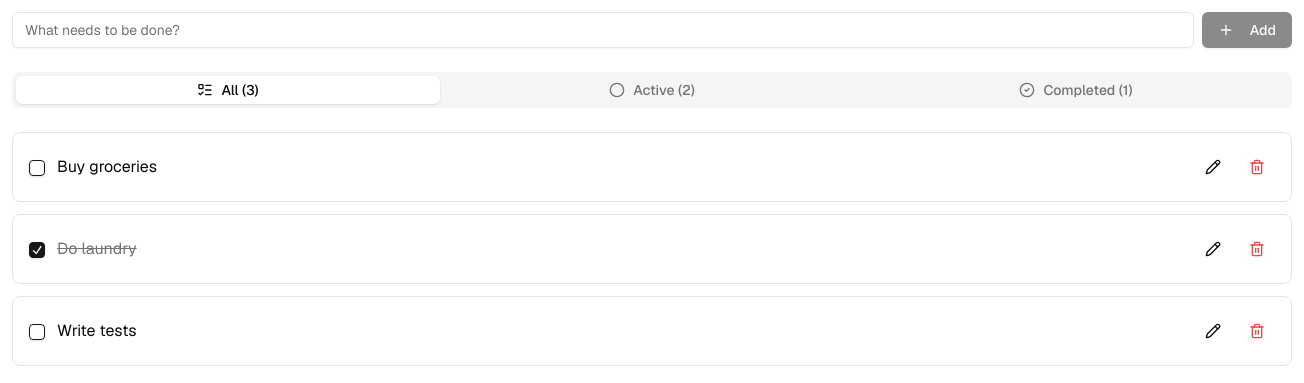
it: TodoList › should switch between filter tabs correctly
expect the text "Buy groceries" is shown: met, box [57,156,157,177]
expect the text "Do laundry" is shown: met, box [57,238,137,259]
// Switch to Active
Click the tab "Active (2)" at (652, 90), box [440,76,864,104]
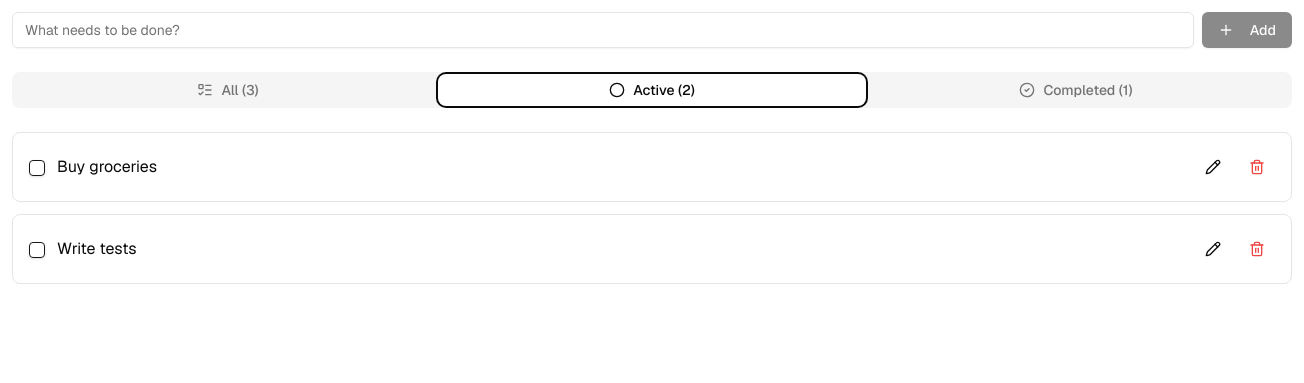
expect the text "Buy groceries" is shown: met, box [57,156,157,177]
expect the text "Do laundry" is gone: met
Click the tab "Completed (1)" at (1076, 90), box [864,76,1288,104]
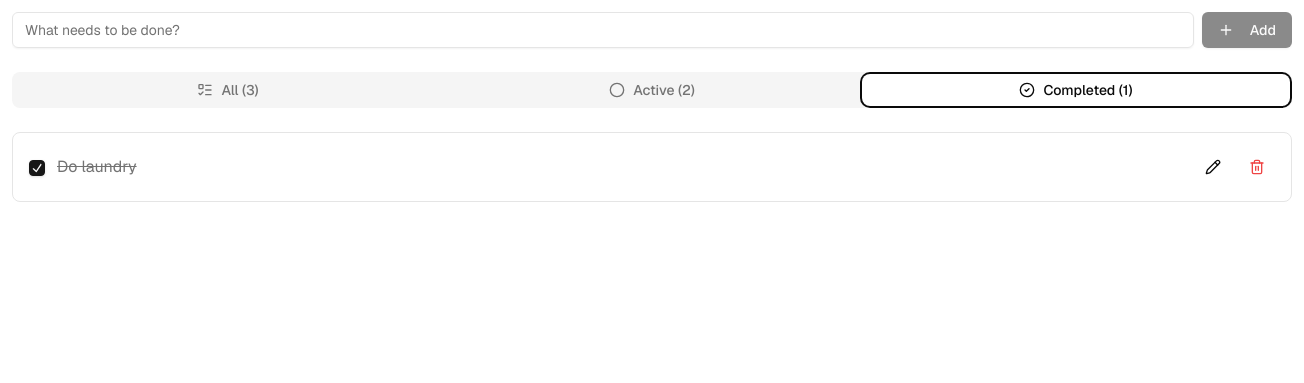
expect the text "Do laundry" is shown: met, box [57,156,137,177]
expect the text "Buy groceries" is gone: met
expect the text "Write tests" is gone: met
// Switch back to All
Click the tab "All (3)" at (228, 90), box [16,76,440,104]
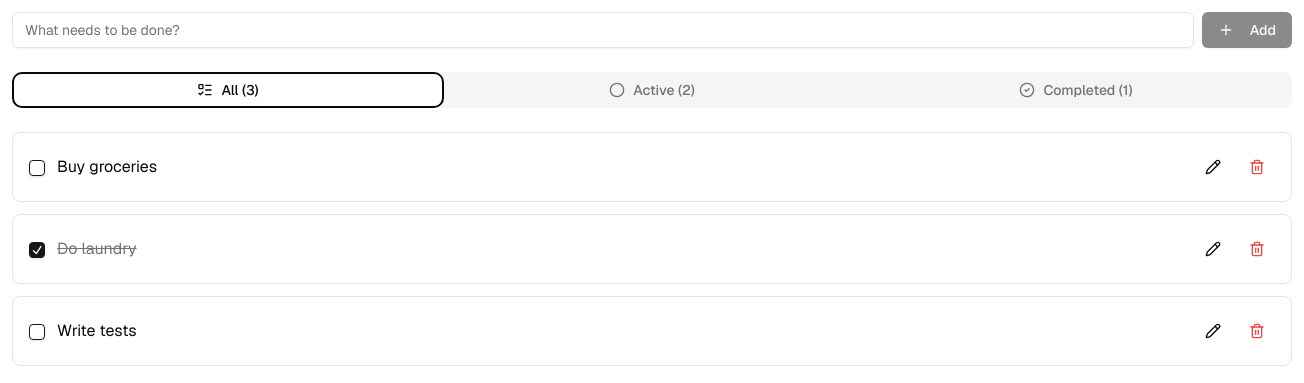
expect the text "Do laundry" is shown: met, box [57,238,137,259]
expect the text "Buy groceries" is shown: met, box [57,156,157,177]
expect the text "Write tests" is shown: met, box [57,320,136,341]
